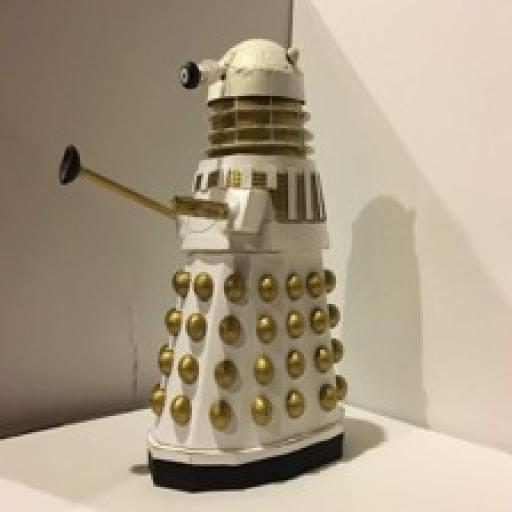dalek: (50, 36, 357, 484)
